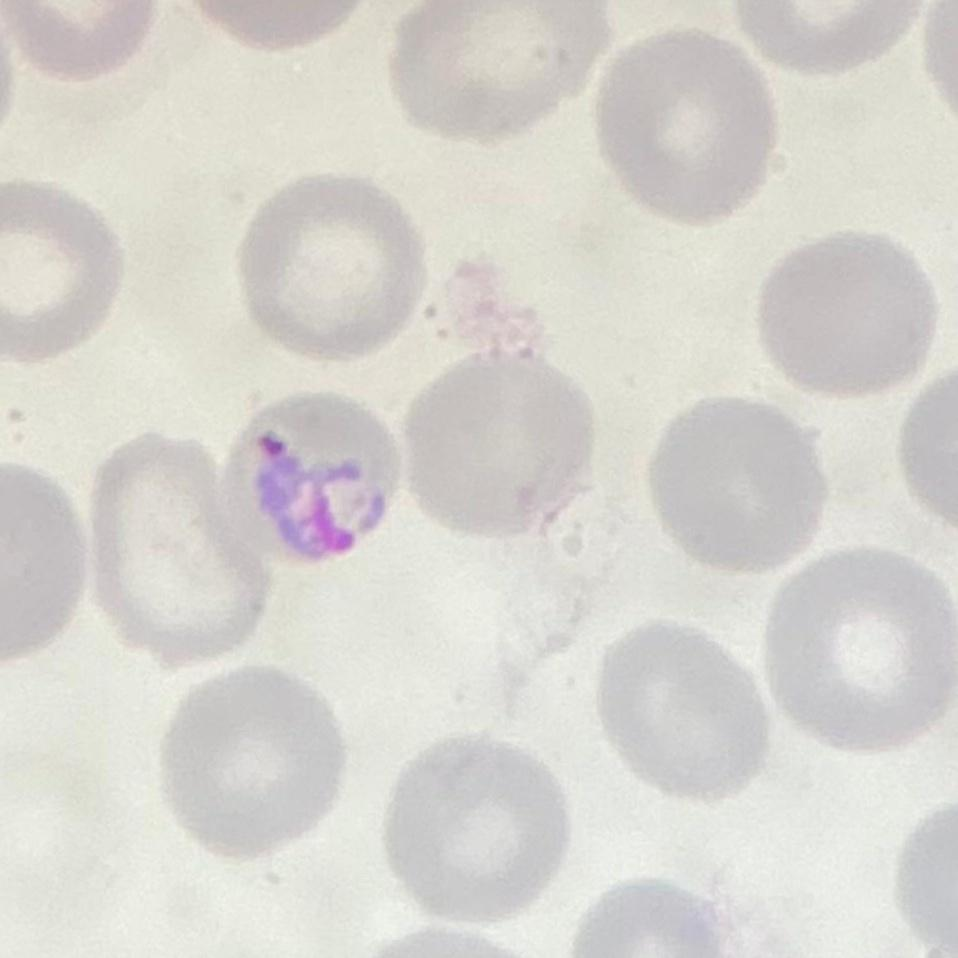Infected: (222, 395, 404, 572)
Uninfected: (90, 430, 260, 659), (770, 547, 958, 752), (598, 25, 779, 230), (243, 175, 430, 363), (157, 665, 343, 853), (410, 352, 596, 537), (392, 732, 570, 925), (647, 394, 831, 576), (598, 617, 771, 803), (392, 0, 610, 147), (755, 229, 935, 400), (0, 175, 122, 364)
